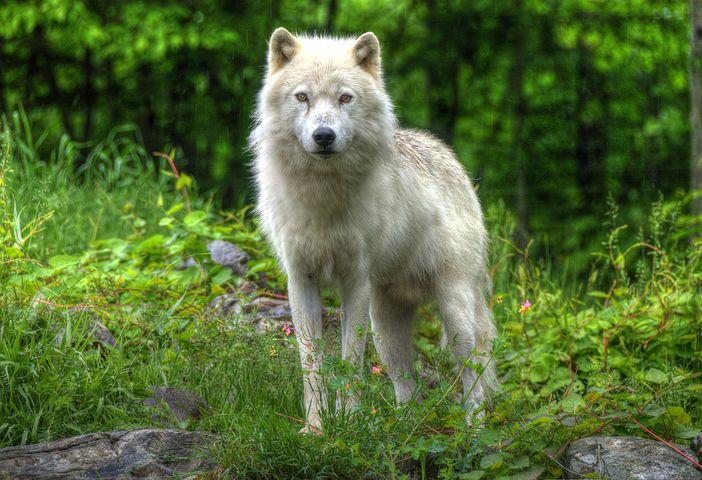Wolf: (246, 29, 507, 440)
